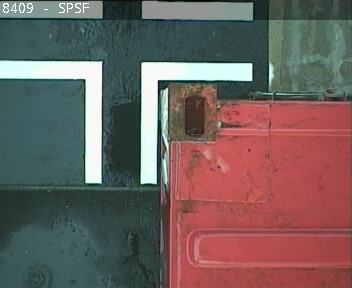groundmarker_1: (1, 60, 253, 182)
